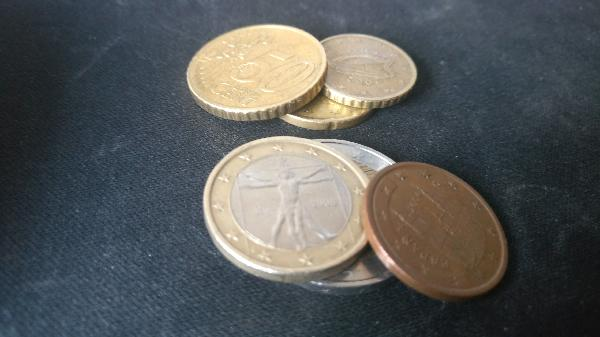Fifty Cent: (189, 27, 329, 121)
Five Cent: (359, 157, 520, 302)
One Euro: (202, 136, 378, 284)
Ten Cent: (320, 33, 423, 106)
